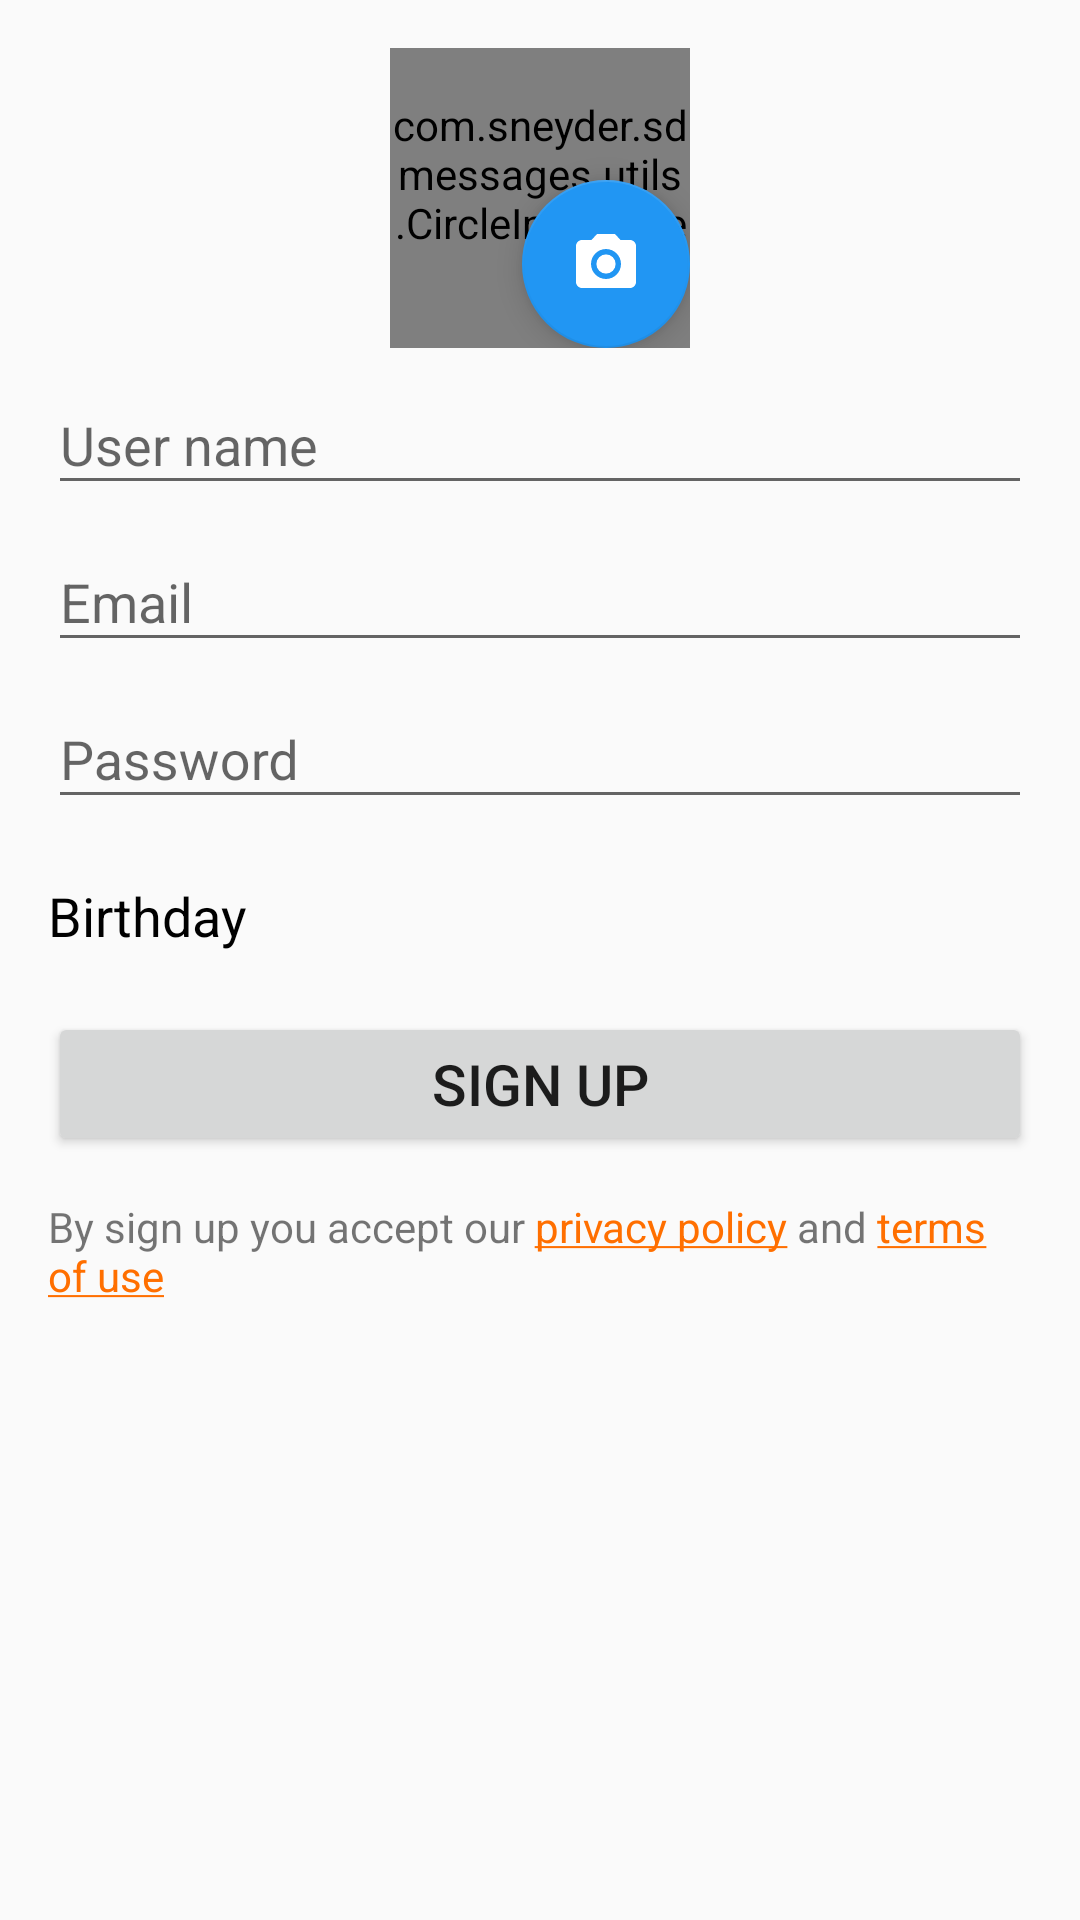

Where to tap for icons on this 1080px x 1920px app screen, as (x=x, y=y):
add profile photo: (x=606, y=264)
